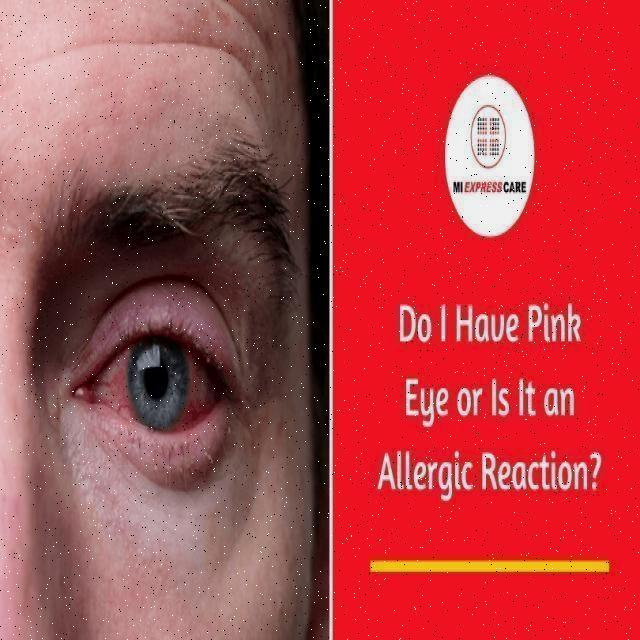Conjunctivitis: (63, 342, 232, 438)
